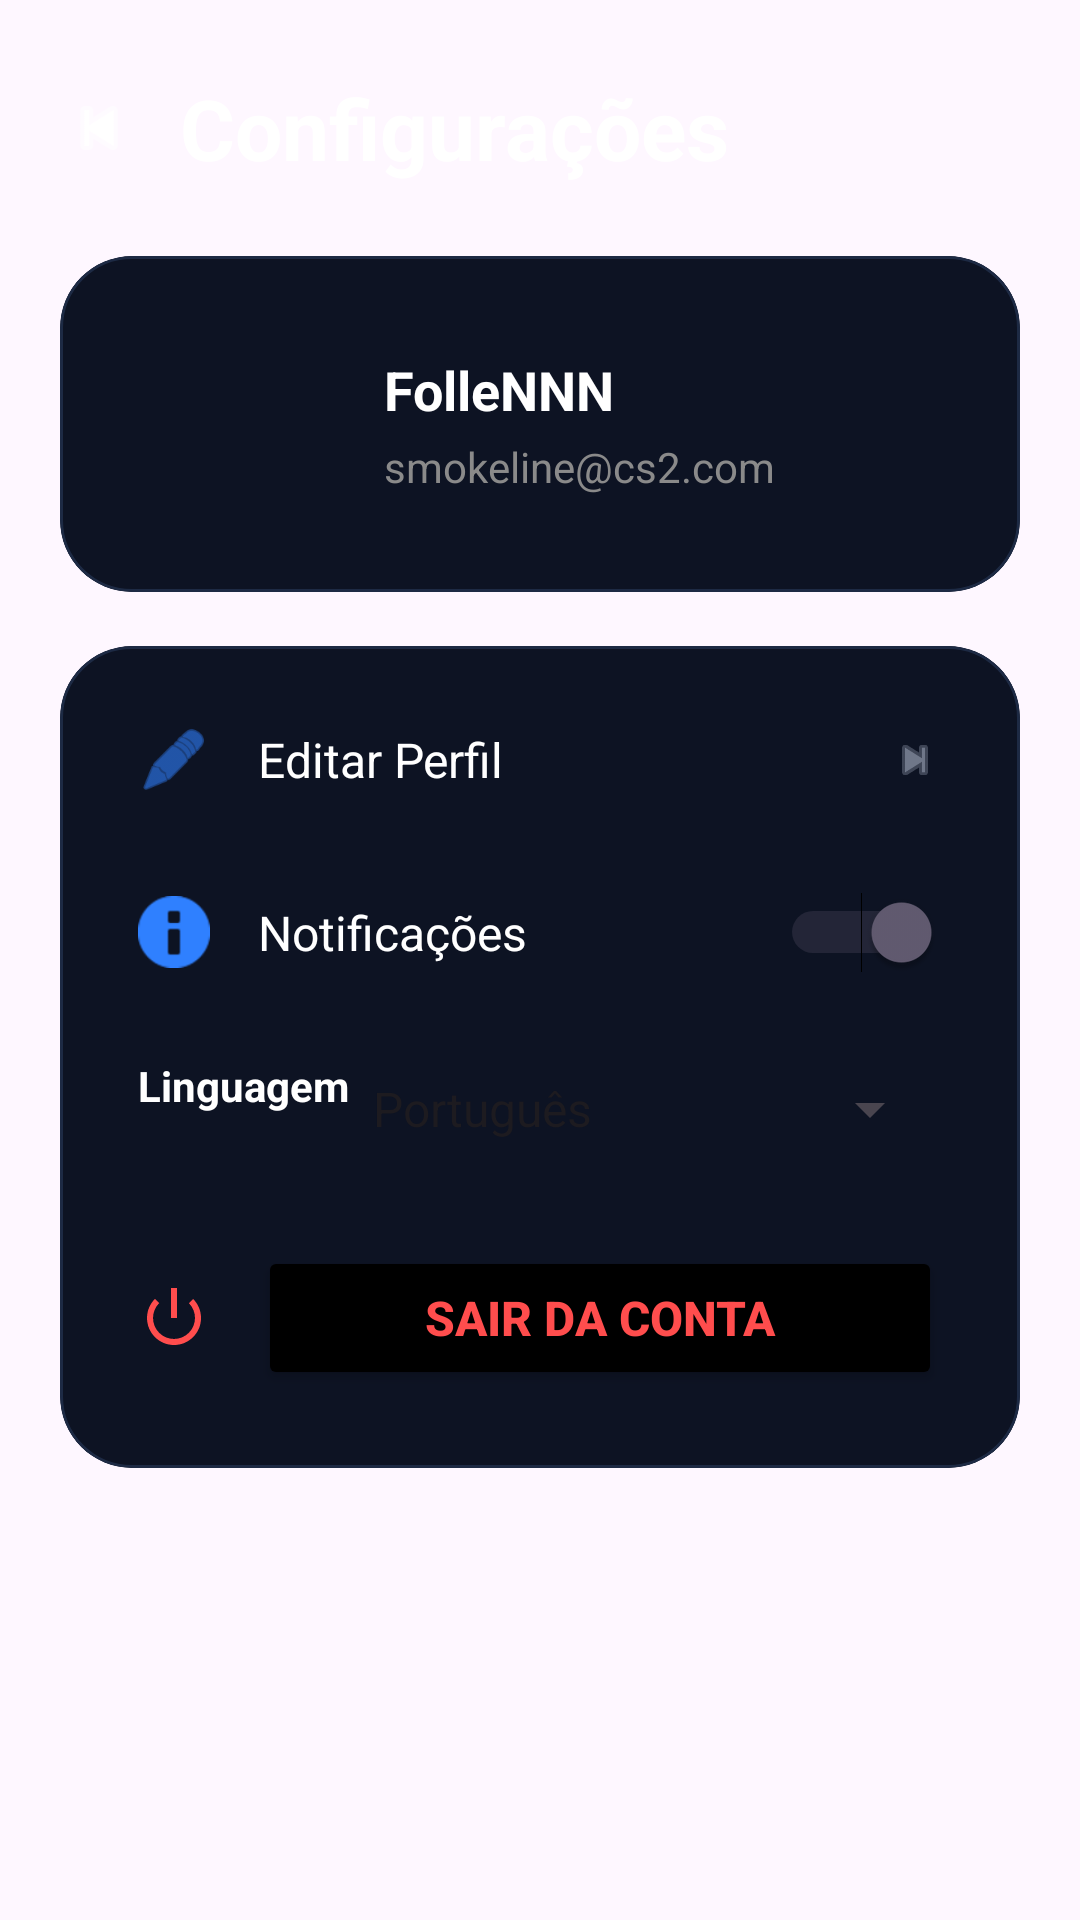

Icon bounding boxes for this 1080x1920 phone screenshot, format (x1, y1, x2, y2):
info: (138, 896, 210, 968)
lock power off: (147, 1288, 201, 1345)
next: (902, 745, 928, 775)
